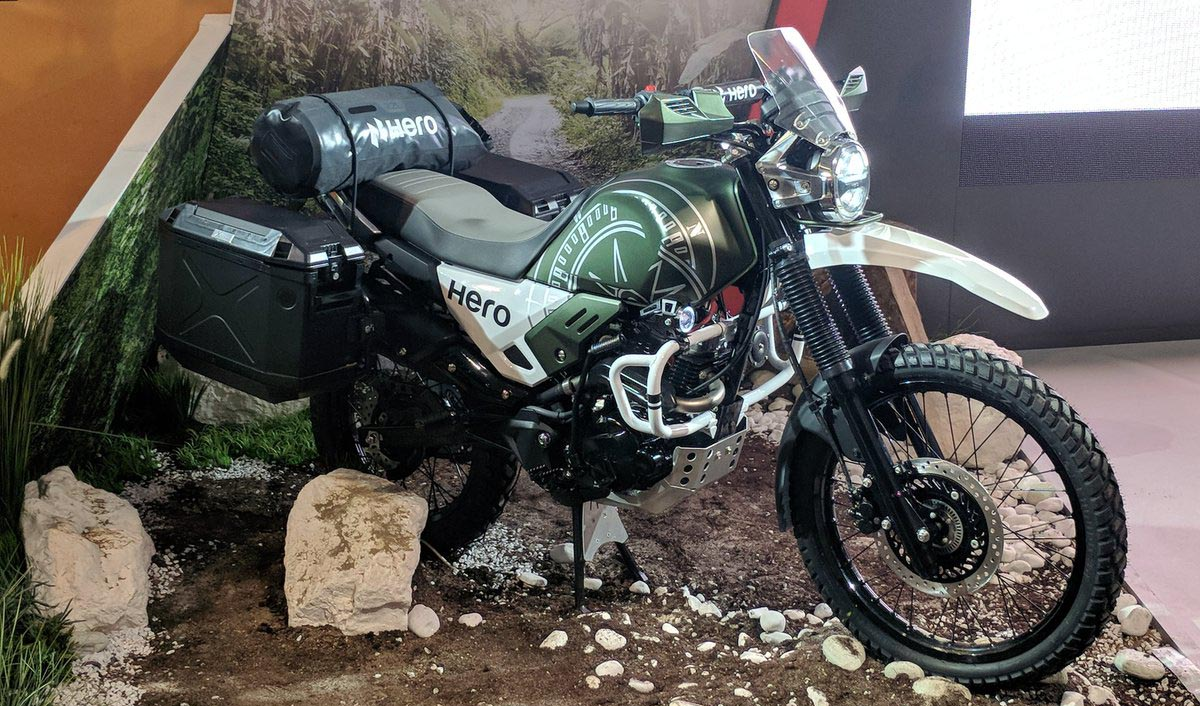motorbike: (232, 102, 1128, 697)
